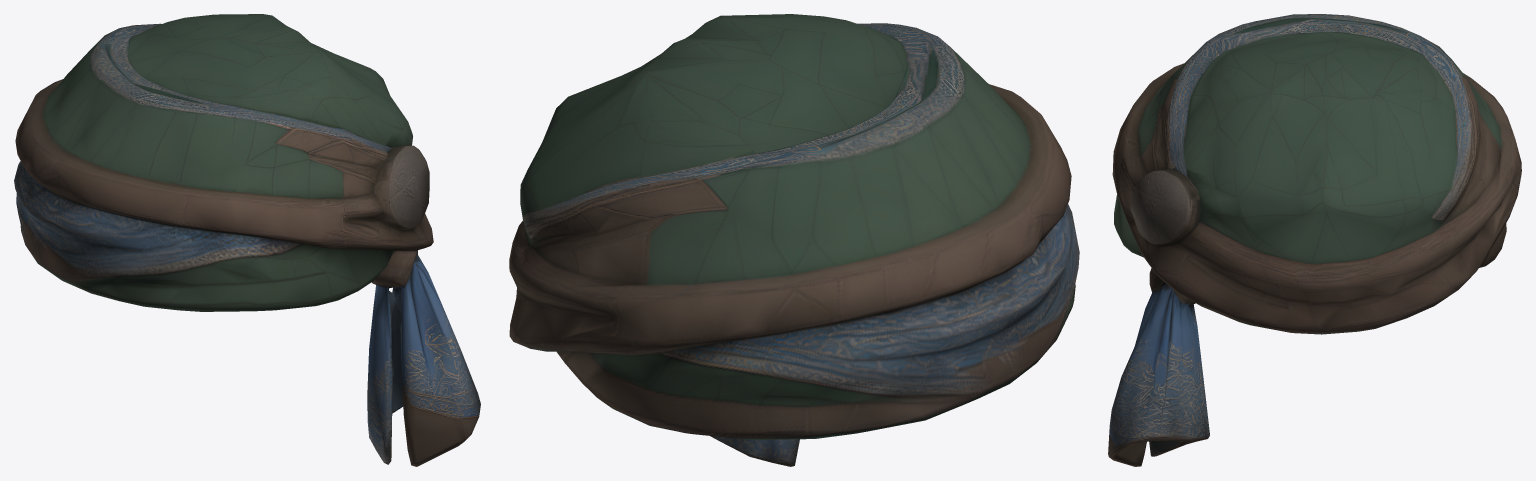
File: Turbant.fbx
3 renders of one model, left to right at view 1: azimuth 30°, elevation 25°; view 2: azimuth 150°, elevation 25°; view 3: azimuth 270°, elevation 25°, orthographic. The views are drawn at different scales.
Parts seen in each view (by area): view 1: TurbantHat; view 2: TurbantHat; view 3: TurbantHat.
Boxes of the visible parts, x1,y1,x2,y2 form: TurbantHat: (14,14,480,466); TurbantHat: (509,14,1079,466); TurbantHat: (1108,14,1521,466).
Size of the model in its own units: 22.7 by 22.75 by 23.1.
Materials: 1 (1 with a texture image).
